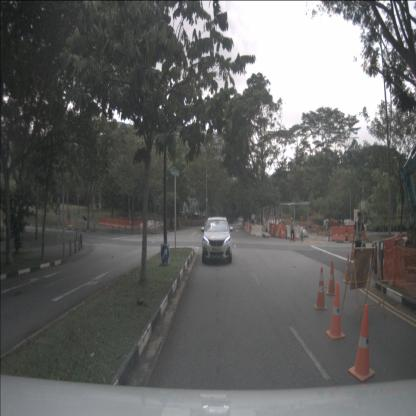human-pedestrian-adult: (251, 212, 255, 229)
movable_object-barrier: (383, 235, 399, 278), (392, 238, 406, 280), (347, 227, 366, 242), (331, 226, 347, 241), (287, 225, 300, 239), (274, 225, 286, 238), (64, 218, 75, 228), (255, 225, 263, 238), (112, 218, 121, 228), (269, 223, 275, 237), (119, 219, 127, 228), (132, 221, 140, 230), (99, 216, 106, 226), (250, 224, 257, 234), (105, 218, 112, 227), (247, 223, 253, 233), (126, 220, 133, 228), (244, 220, 248, 232), (247, 222, 250, 233)
movable_object-trafficcone: (348, 303, 375, 382), (326, 282, 346, 340), (314, 267, 327, 310), (326, 260, 338, 296), (343, 254, 353, 284), (289, 232, 292, 242), (294, 232, 297, 241)
vehicle-car: (202, 217, 232, 266)
